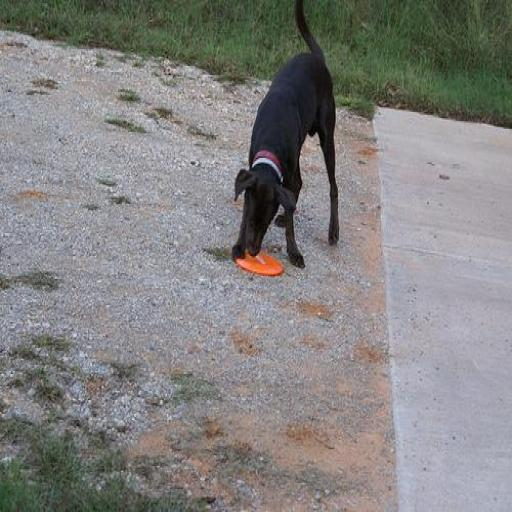dog_face: (227, 165, 294, 261)
